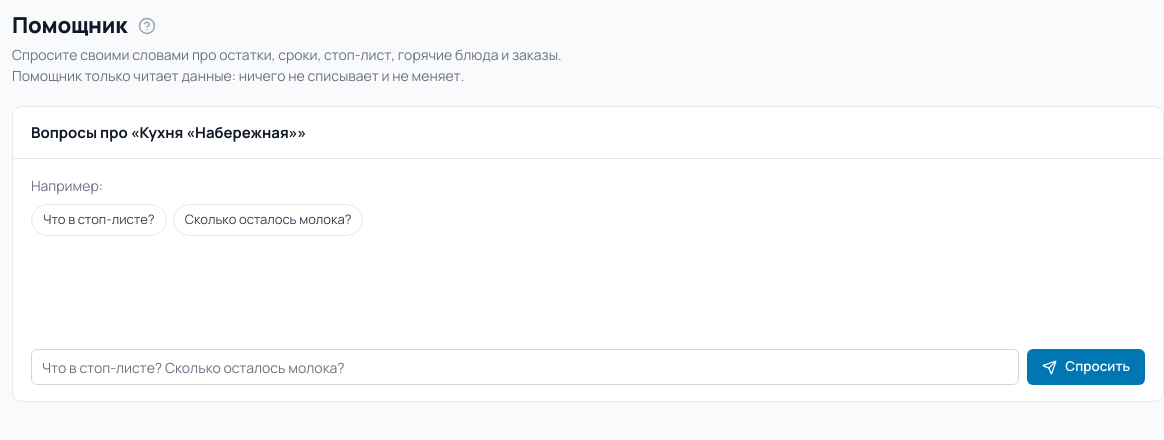
страница помощника › слишком короткий и слишком длинный вопрос не уходят на сервер
Type "я" into the field named "Вопрос помощнику" at (525, 367), box [31,349,1019,385]
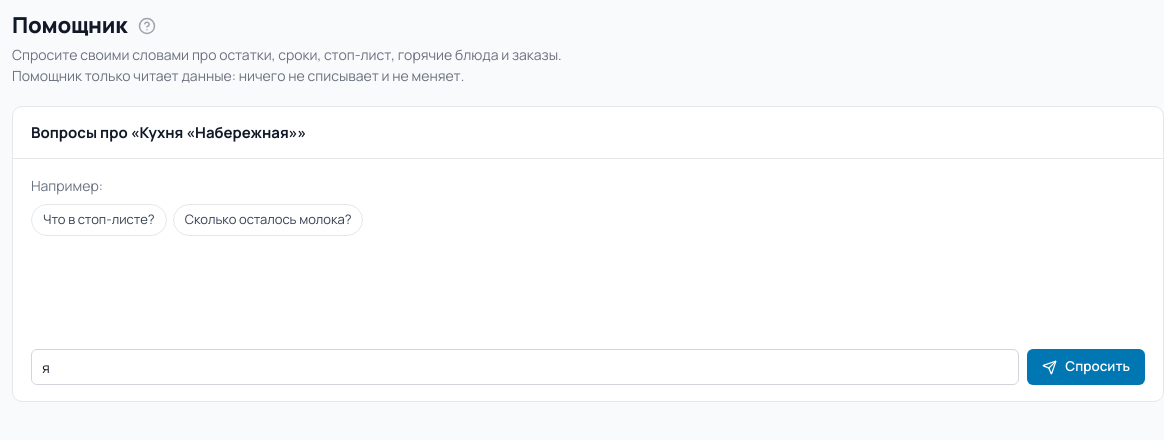
Click the button "Спросить" at (1086, 367), box [1027,349,1145,385]
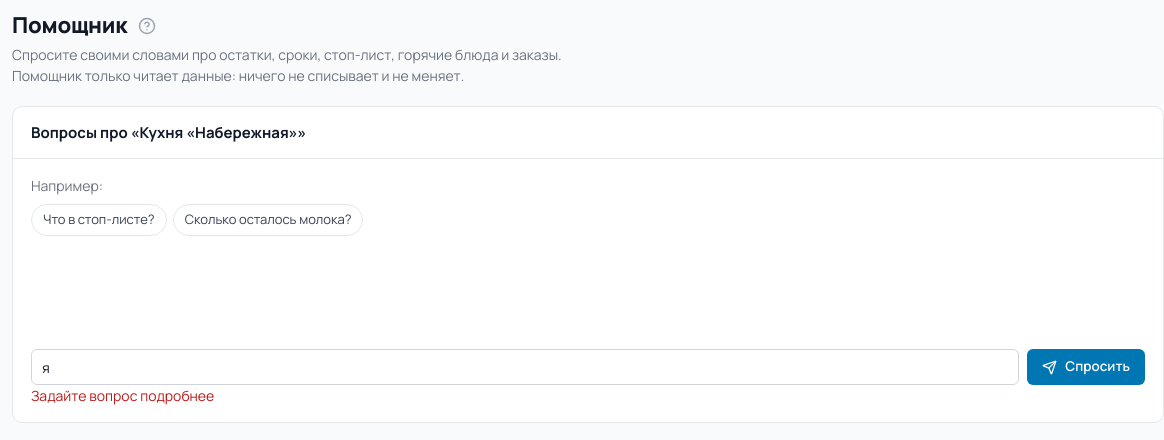
Expected: the message shows "подробнее", [31,386,214,405]
